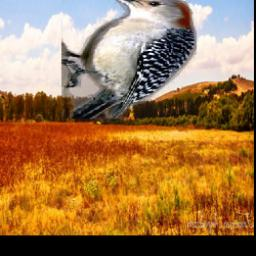Woodpecker: (61, 0, 197, 120)
